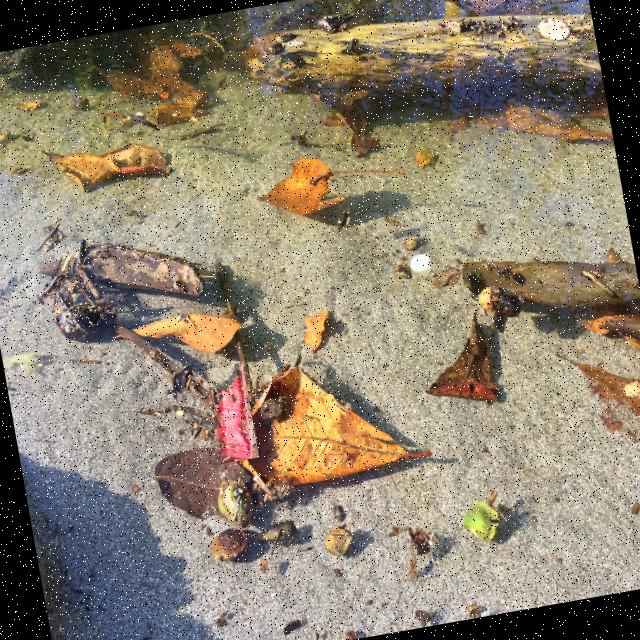Other plastic bottle: (215, 364, 252, 459)
Plastic bottle cap: (410, 254, 432, 278)
